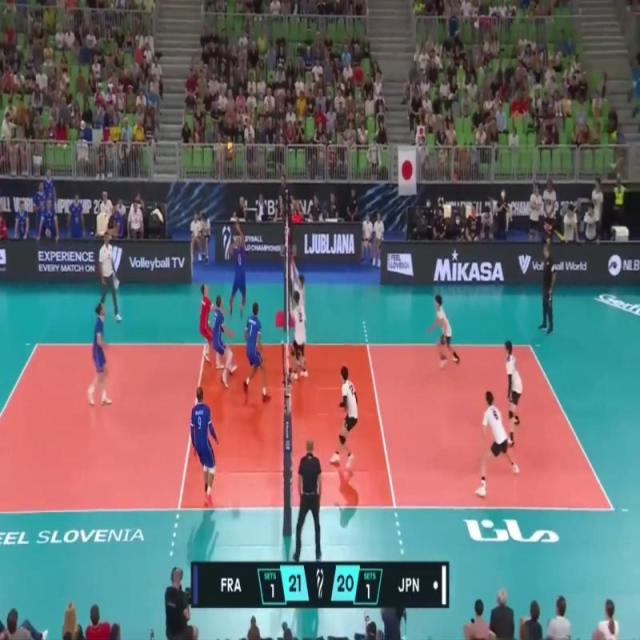volleyball: (226, 141, 234, 154)
